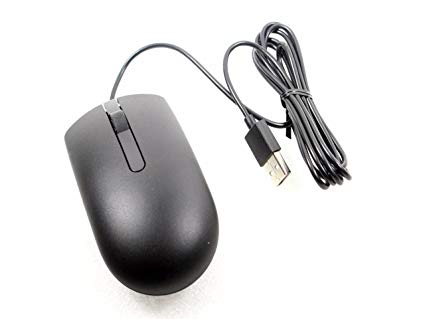dell-mouse-ms116: (58, 20, 356, 297)
